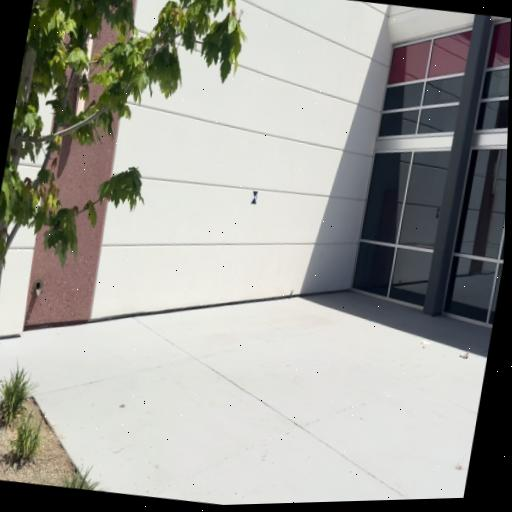target7: (251, 191, 259, 204)
